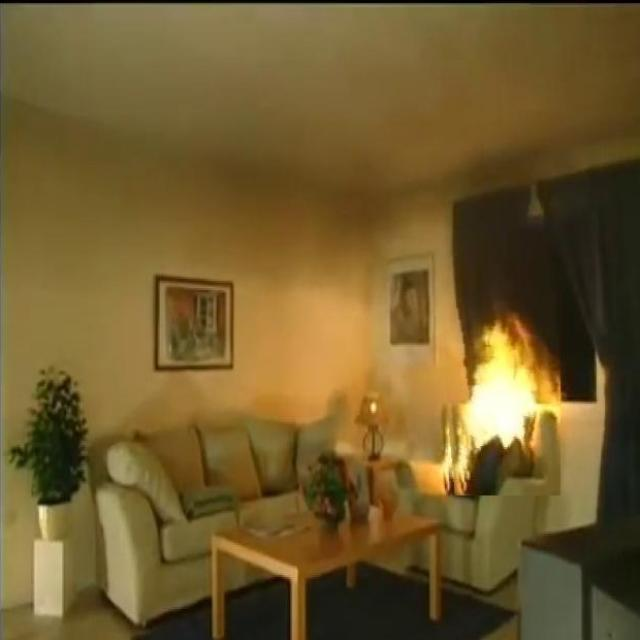smoke: (437, 302, 560, 496)
